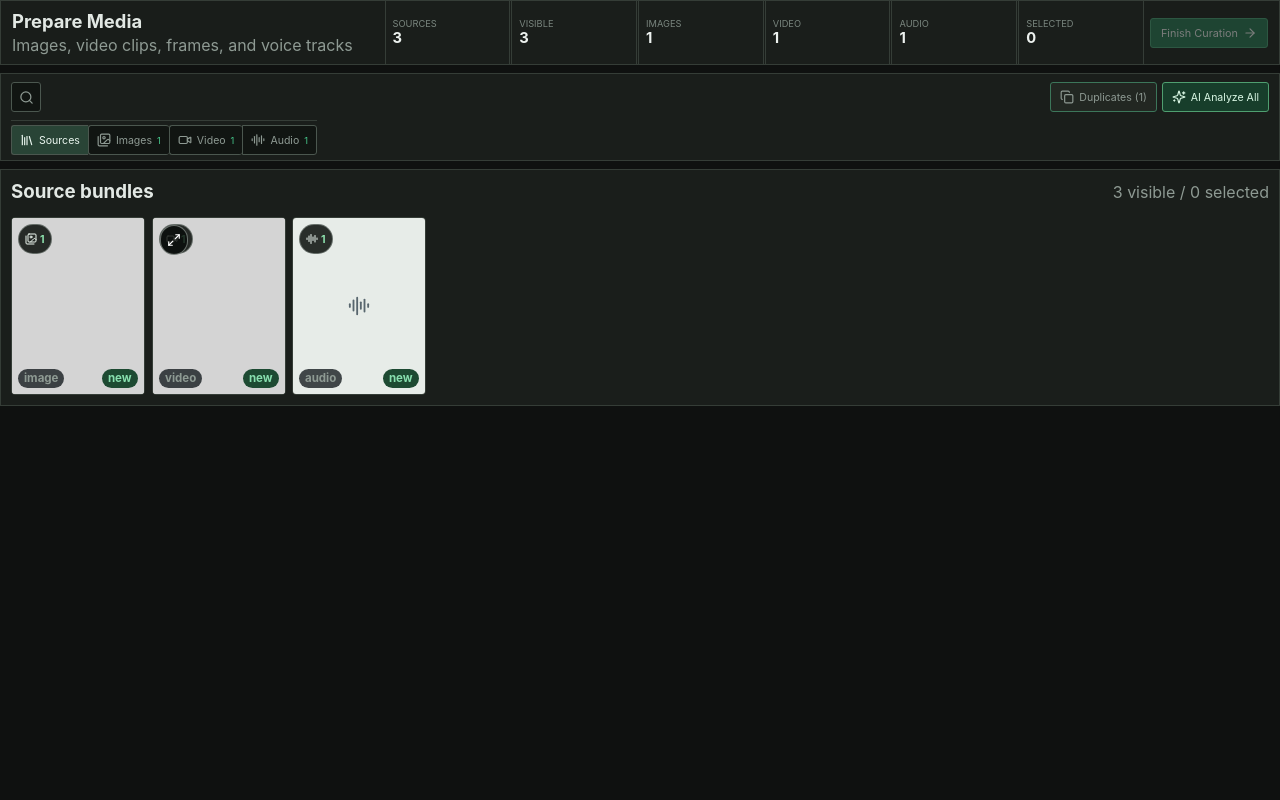
Scenario: CurateSearchTab › shows retained provenance for exact duplicates
What coordinates should you click on to do the following:
click the button "Duplicates (1)"
I would click on:
 (1104, 97)
Its box is [1050,82,1157,112].
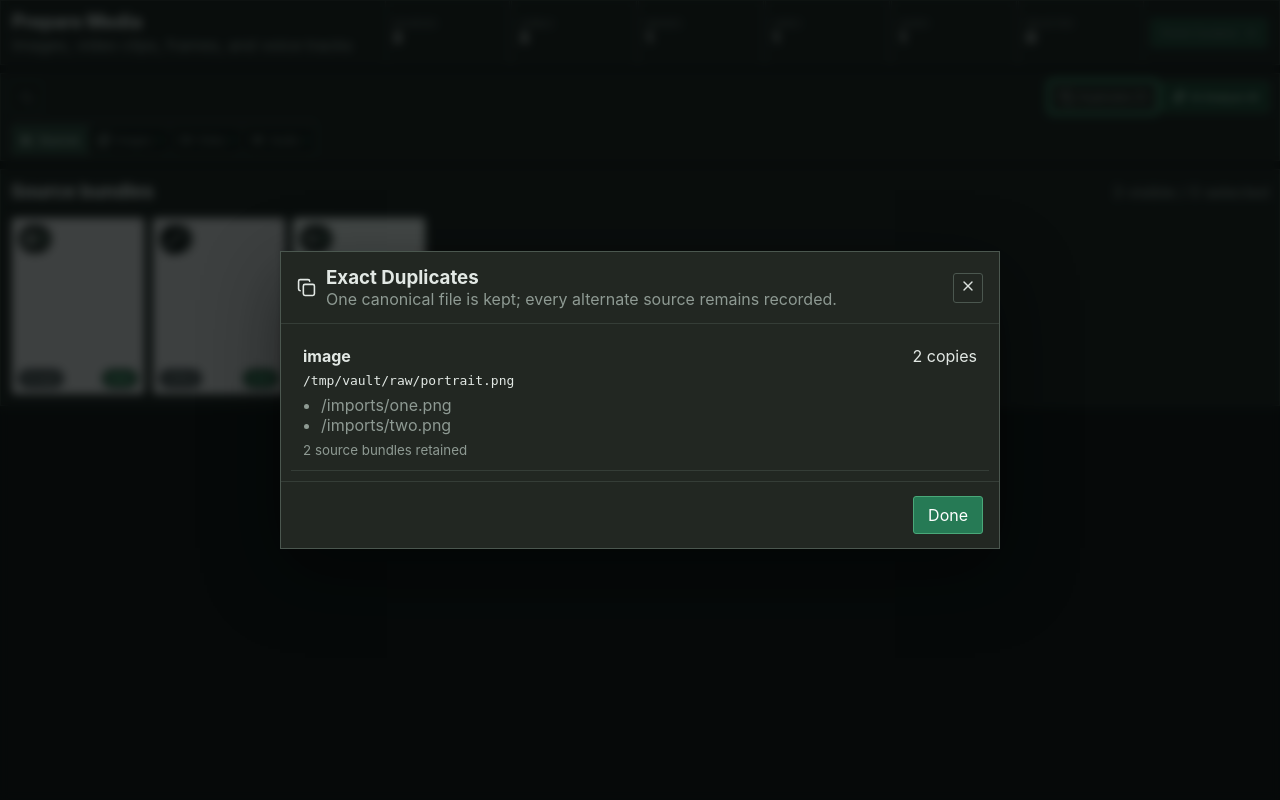
Expected: the dialog "Exact Duplicates" is shown, [280,251,1000,549]
Expected: the list item "/imports/one.png" is shown, [321,395,452,415]
Expected: the text "2 source bundles retained" is shown, [303,442,467,458]
